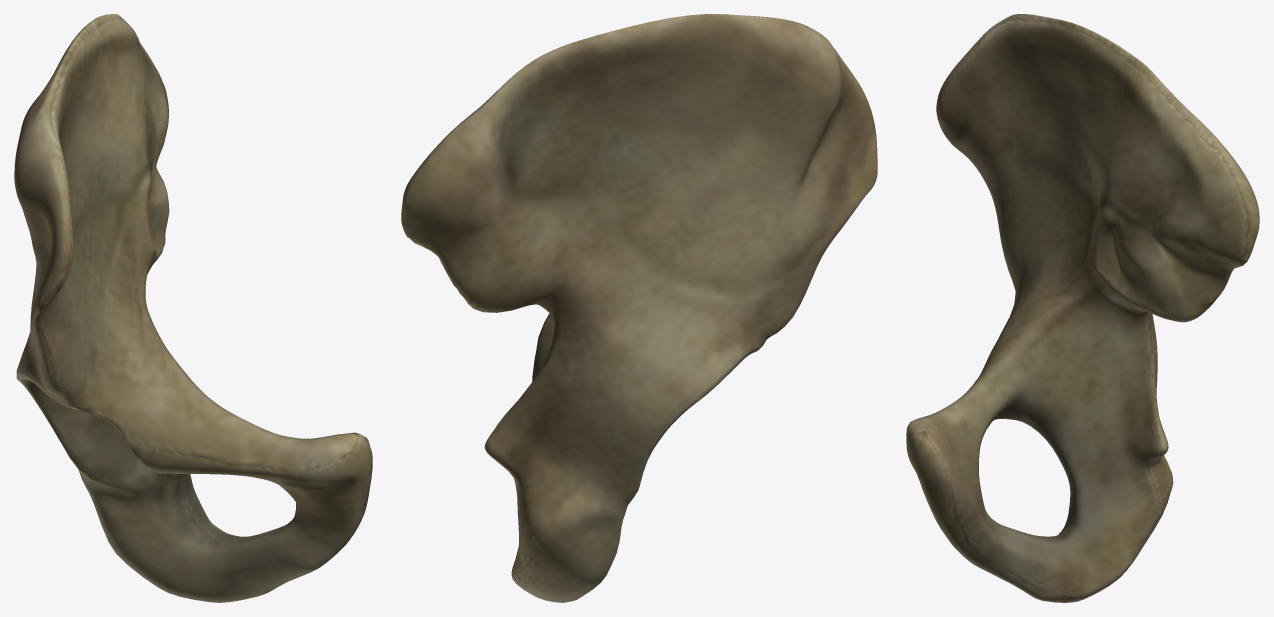
The model's file is Leg.glb.
The picture shows the model from 3 angles, left to right: view 1: azimuth 30°, elevation 25°; view 2: azimuth 150°, elevation 25°; view 3: azimuth 270°, elevation 25°; orthographic projection. The views are drawn at different scales.
Visible parts, largest first — view 1: Leg1; view 2: Leg1; view 3: Leg1.
Boxes of the visible parts, <box> form: Leg1: <box>14,14,372,602</box>; Leg1: <box>401,14,877,602</box>; Leg1: <box>906,14,1259,602</box>.
Bounding box in the file's own units: 0.3907 × 0.6679 × 0.4169.
1 material, 1 textured.
